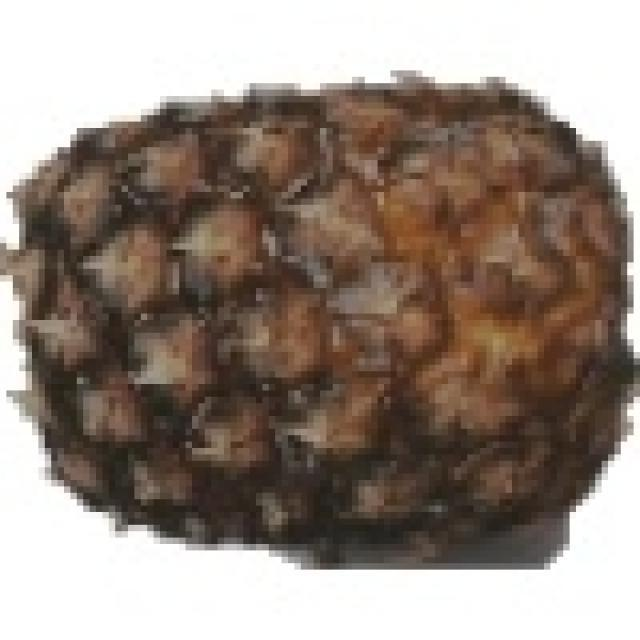pineapple: (6, 70, 614, 550), (442, 518, 493, 538)
